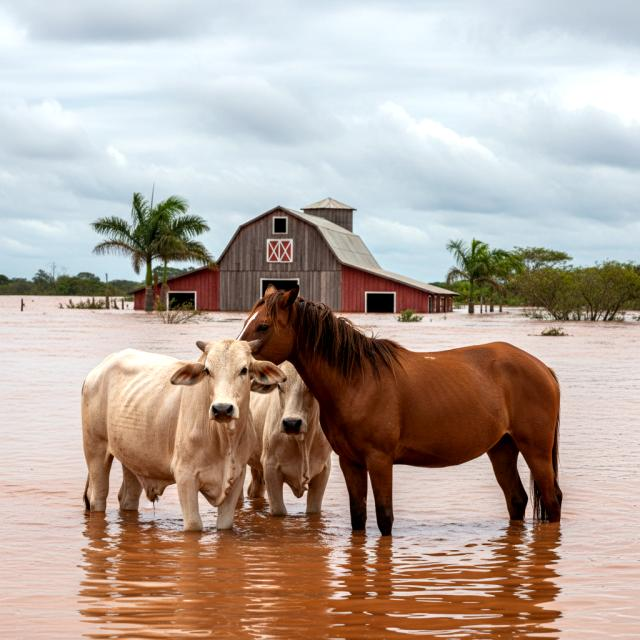cow: (73, 335, 295, 540), (239, 338, 343, 535)
horse: (226, 278, 585, 534)
